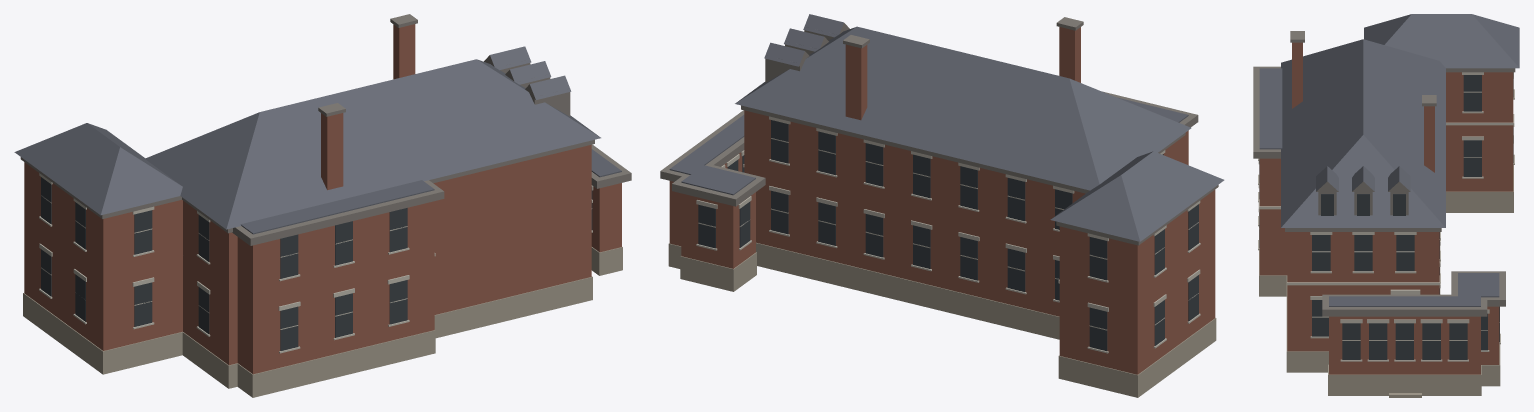
File: house_2101_prairie__draft_1904.glb
3 renders of one model, left to right at view 1: azimuth 30°, elevation 25°; view 2: azimuth 150°, elevation 25°; view 3: azimuth 270°, elevation 25°, orthographic. The views are drawn at different scales.
Visible parts, largest first — view 1: house_2101_prairie__draft_1904; view 2: house_2101_prairie__draft_1904; view 3: house_2101_prairie__draft_1904.
Boxes of the visible parts, bbox=[...] form: house_2101_prairie__draft_1904: bbox=[14, 14, 631, 397]; house_2101_prairie__draft_1904: bbox=[660, 14, 1224, 397]; house_2101_prairie__draft_1904: bbox=[1253, 14, 1519, 397].
Bounding box in the file's own units: 28.7 × 13.48 × 14.45.
